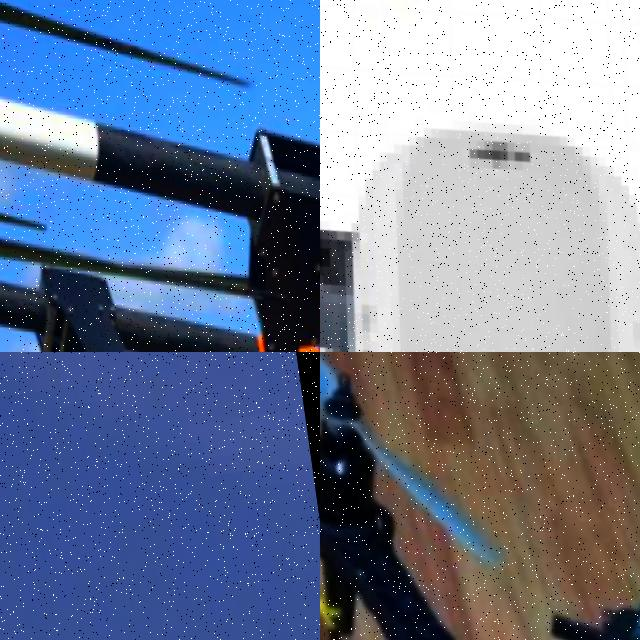drone: (0, 0, 320, 352), (320, 0, 640, 352), (320, 352, 640, 640)
